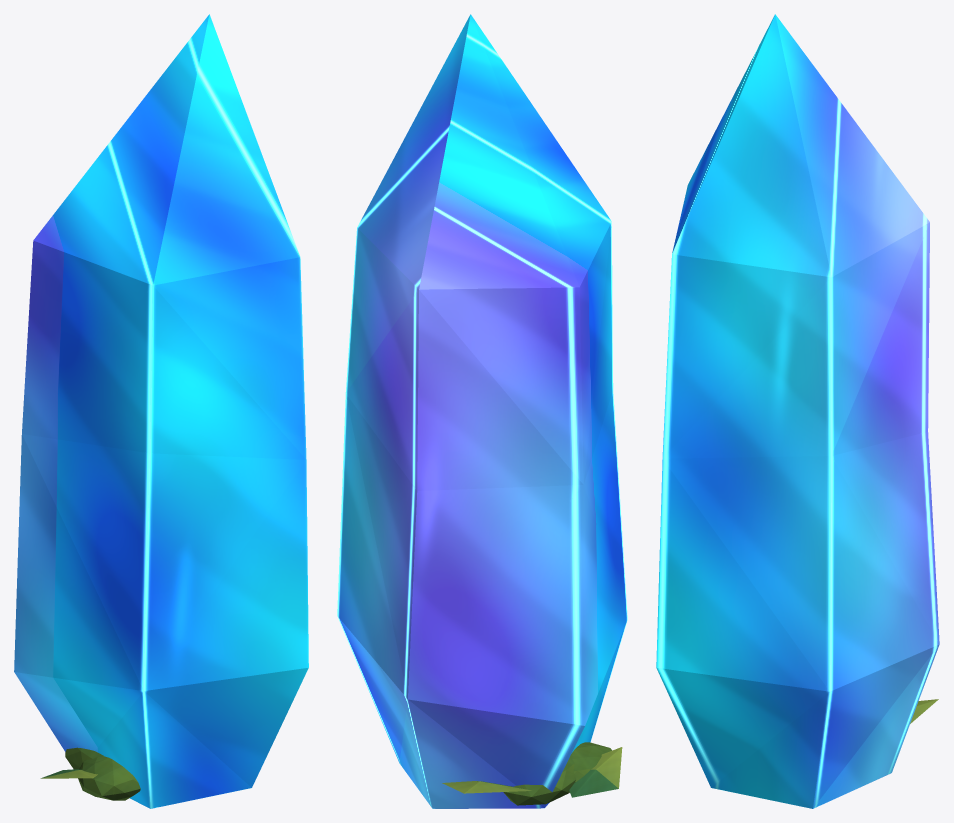
Rendered from forest_crystal_blue.glb.
3 views of the same model, side by side, from view 1: azimuth 30°, elevation 25°; view 2: azimuth 150°, elevation 25°; view 3: azimuth 270°, elevation 25° (orthographic). The views are drawn at different scales.
Parts seen in each view (by area): view 1: Faceted magical crystal, Woodland shared moss cushion.013; view 2: Faceted magical crystal, Woodland shared curved ivy leaf.022, Woodland shared moss cushion.012, Woodland shared moss cushion.013, Woodland shared curved ivy leaf.023; view 3: Faceted magical crystal.
Part boxes in pixels (x1,y1,x2,y2): Faceted magical crystal: [14, 14, 308, 808]; Woodland shared moss cushion.013: [78, 756, 140, 800]; Faceted magical crystal: [337, 14, 627, 808]; Woodland shared curved ivy leaf.022: [569, 747, 622, 797]; Woodland shared moss cushion.012: [503, 754, 576, 805]; Woodland shared moss cushion.013: [571, 742, 611, 782]; Woodland shared curved ivy leaf.023: [442, 781, 531, 793]; Faceted magical crystal: [656, 14, 939, 808].
Size of the model in its own units: 0.6081 by 1.64 by 0.548.
6 materials, 6 textured.
